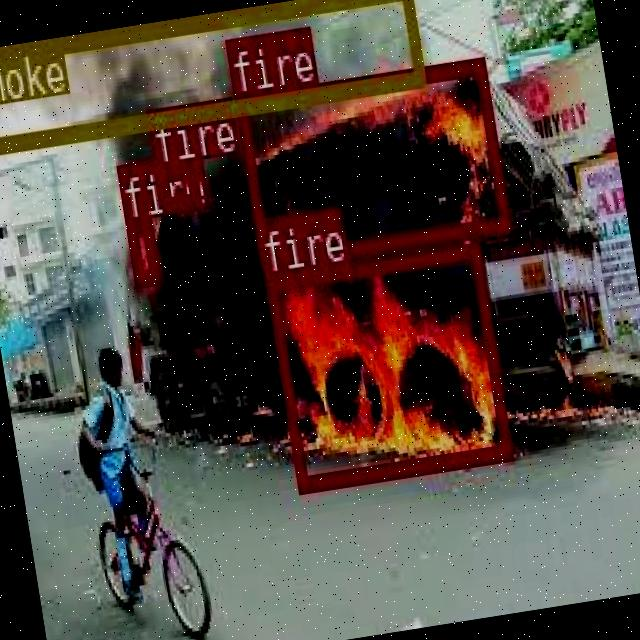fire: (264, 241, 510, 490), (233, 56, 508, 266), (154, 156, 200, 212), (124, 218, 160, 284)
smoke: (0, 0, 425, 152)
